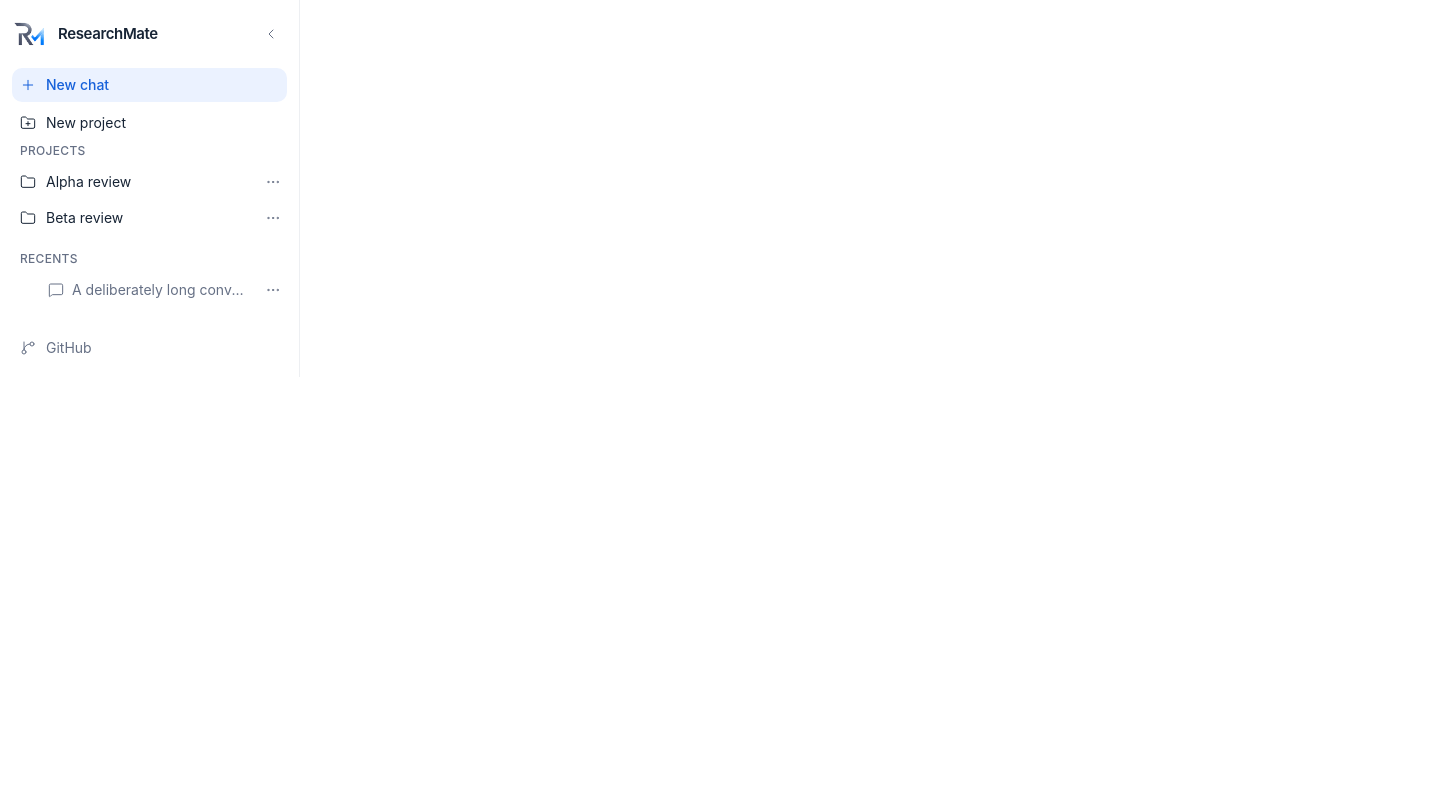
AppSidebar navigation › keeps a long conversation's management action visible and reserves its control space
Step 1. Click the button named "Manage A deliberately long conversation title that must not" → point(273, 290), box x1=259 y1=276 x2=287 y2=304
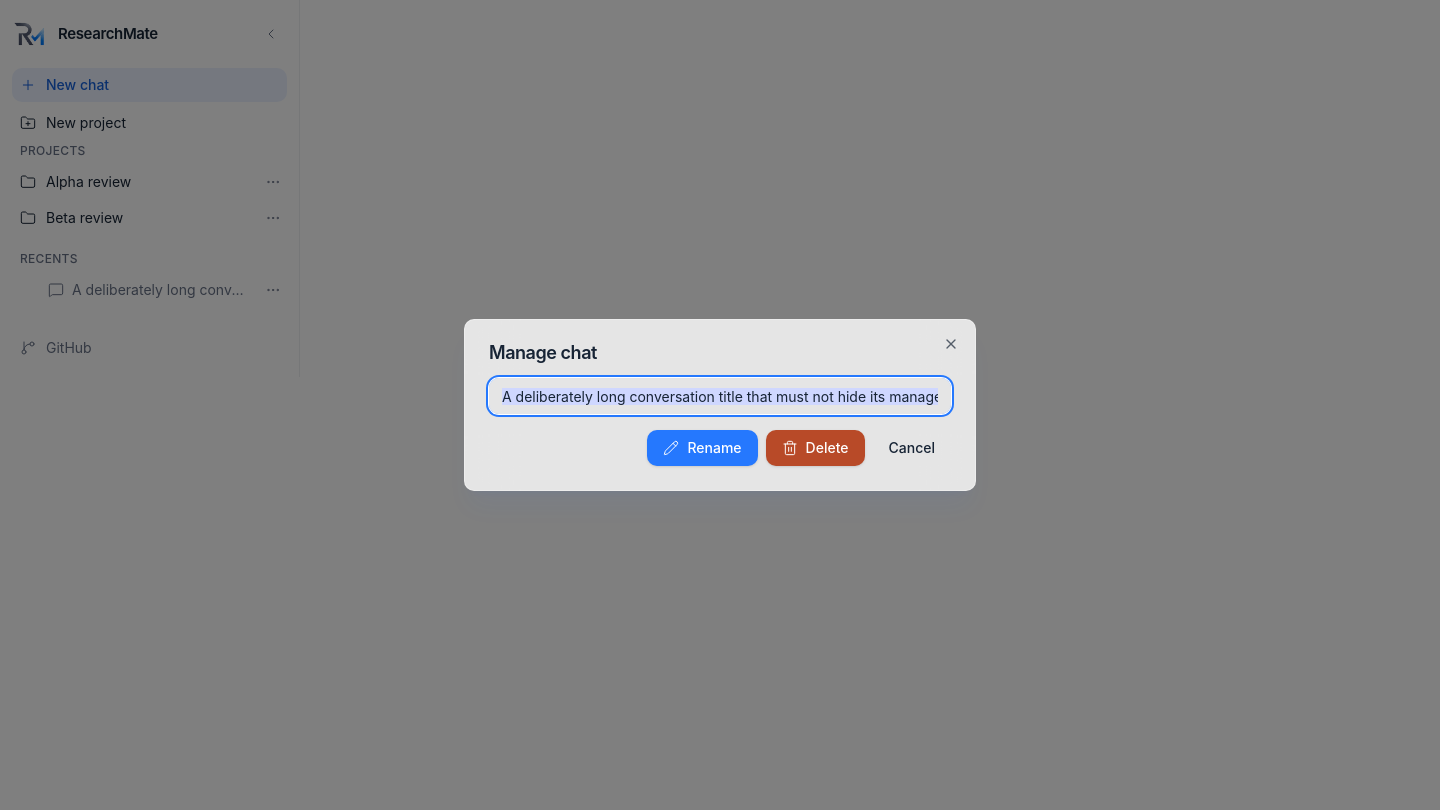
Check: the text "Manage chat" is shown, box x1=489 y1=342 x2=597 y2=363
